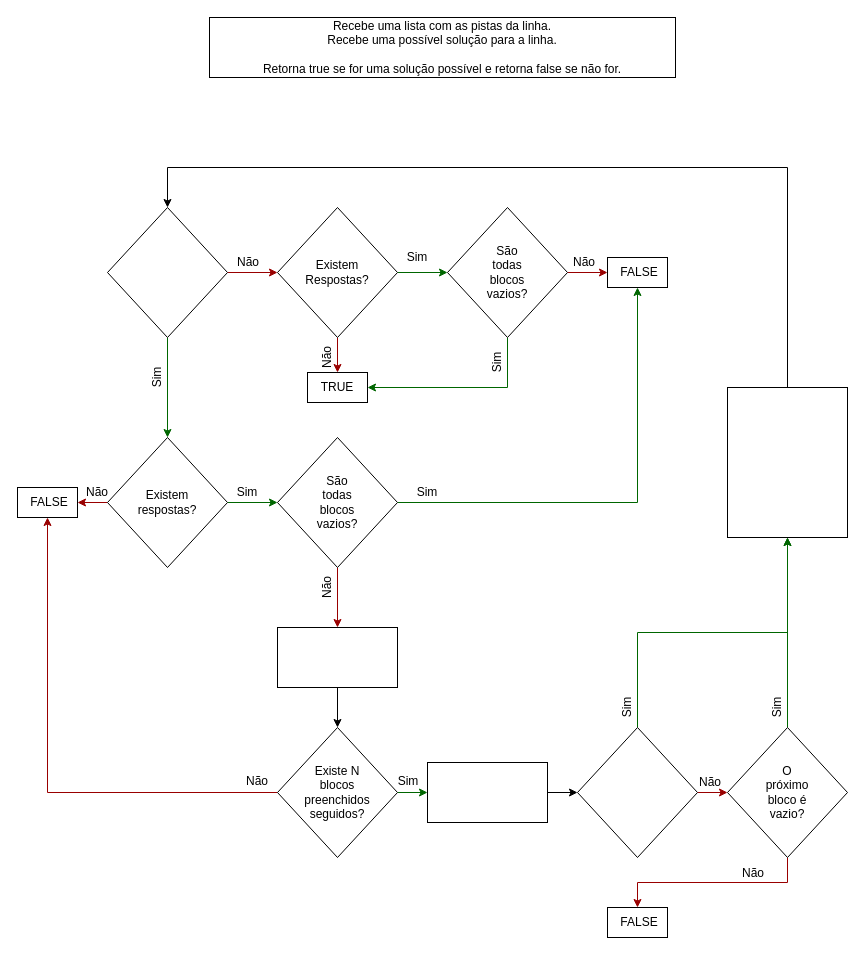
The diagram is 865 pixels wide and 955 high, and some of its shapes have lost their labels. The shapes that lost their labels are listed below. From the top down, each one's centre as x and y in pixels, then its label:
the point at 167,272: Existem pistas?
the point at 787,462: Salta para a próxima pista. Salta a próxima solução.
the point at 337,657: Salta um número indeterminado de blocos vazios
the point at 487,792: Salta N blocos preenchidos
the point at 637,792: Existe uma próxima bloco?
